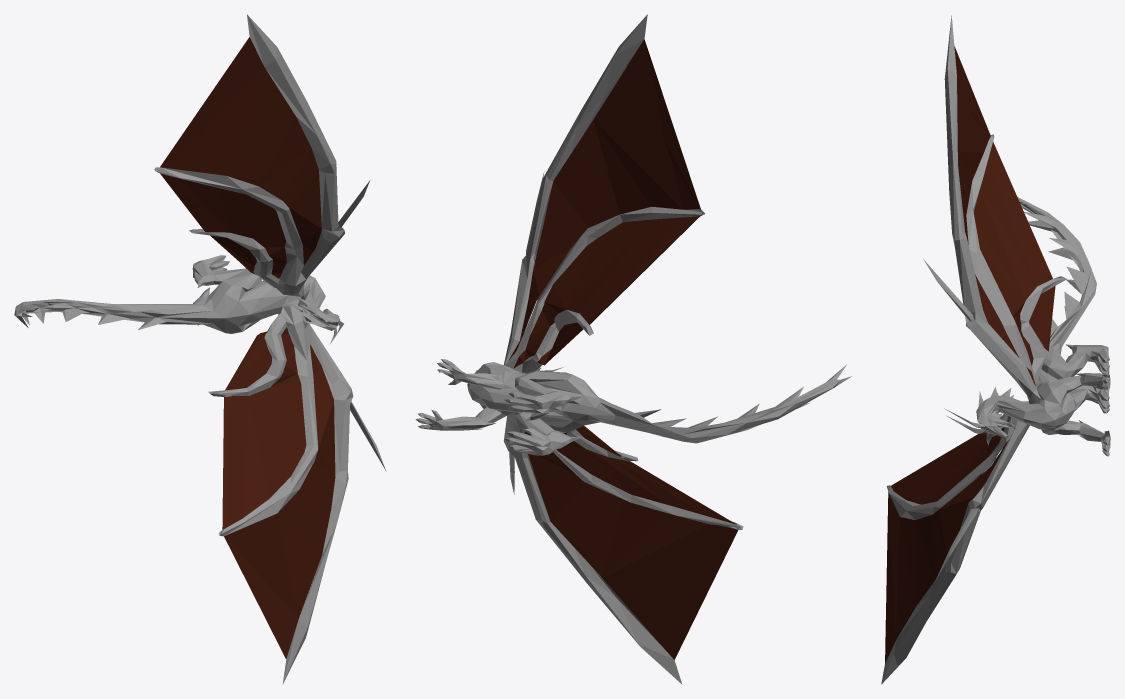
The model's file is Dragon_2.5_For_Animations_000119.obj.
3 views of the same model, side by side, from view 1: azimuth 30°, elevation 25°; view 2: azimuth 150°, elevation 25°; view 3: azimuth 270°, elevation 25° (orthographic). The views are drawn at different scales.
Visible parts, largest first — view 1: Cube_Cube.004; view 2: Cube_Cube.004; view 3: Cube_Cube.004.
Part boxes in pixels (left/top/right/bottom): Cube_Cube.004: left=14, top=14, right=386, bottom=684; Cube_Cube.004: left=415, top=14, right=851, bottom=684; Cube_Cube.004: left=881, top=15, right=1110, bottom=684.
Size of the model in its own units: 83.57 by 150 by 46.48.
